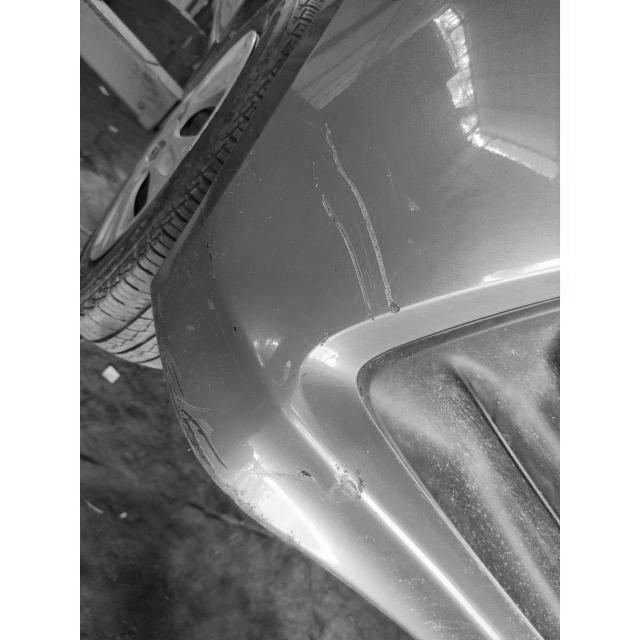front-bumper-dent: (136, 89, 558, 640)
